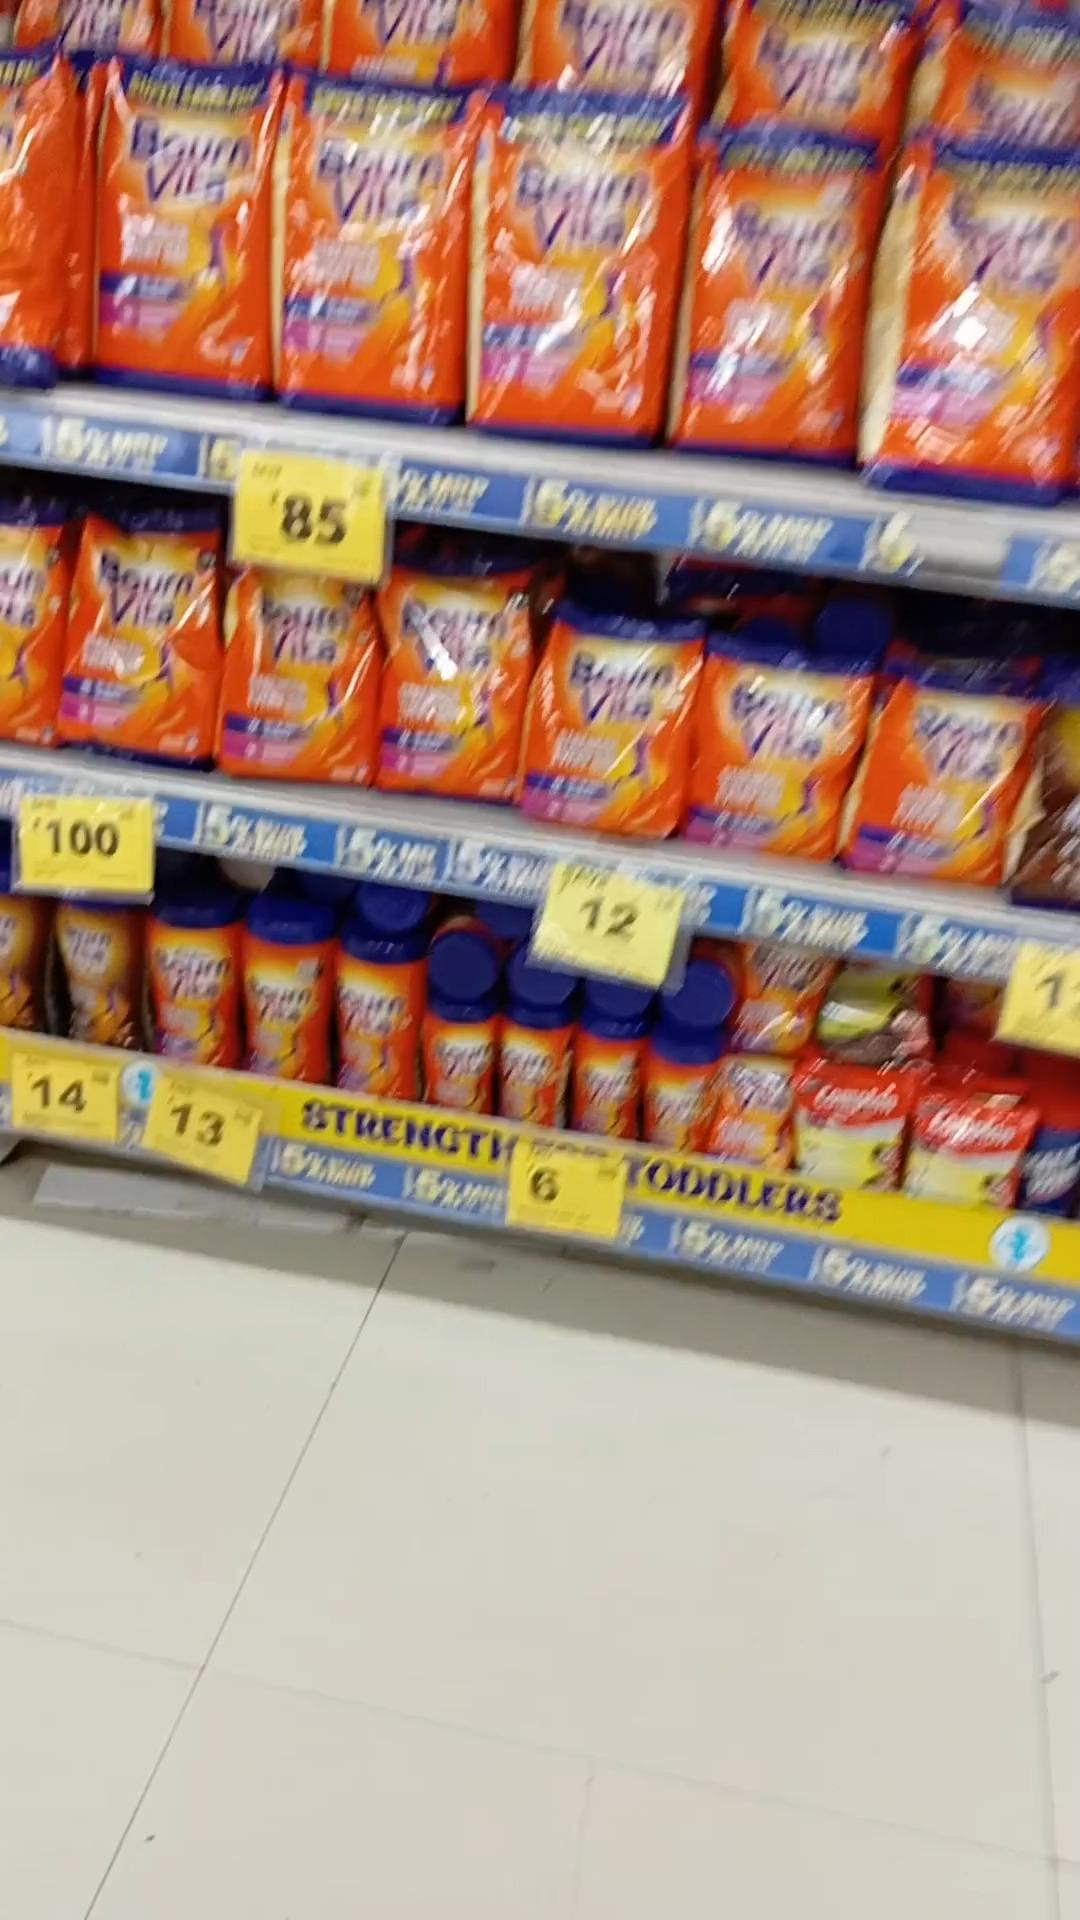BOURN_VITA_1_KG_POUCH: (887, 133, 1080, 492), (483, 87, 666, 440), (686, 116, 858, 475), (287, 71, 464, 421), (105, 62, 264, 385)
BOURN_VITA_200_G_JAR: (500, 1006, 570, 1124), (422, 1001, 496, 1106), (575, 1019, 640, 1138), (646, 1039, 709, 1146)
BOURN_VITA_500_G_JAR: (239, 902, 324, 1083), (331, 928, 414, 1097), (149, 897, 231, 1060)
BOURN_VITA_500_G_POUCH: (539, 600, 679, 836), (860, 673, 998, 870), (708, 642, 832, 857)
BOURN_VITA_750_G_POUCH: (70, 520, 208, 766), (229, 572, 377, 783), (388, 563, 513, 799)
BOURN_VITA_FIVE_STAR_MAGIC_500_G_JAR: (58, 887, 141, 1048)
